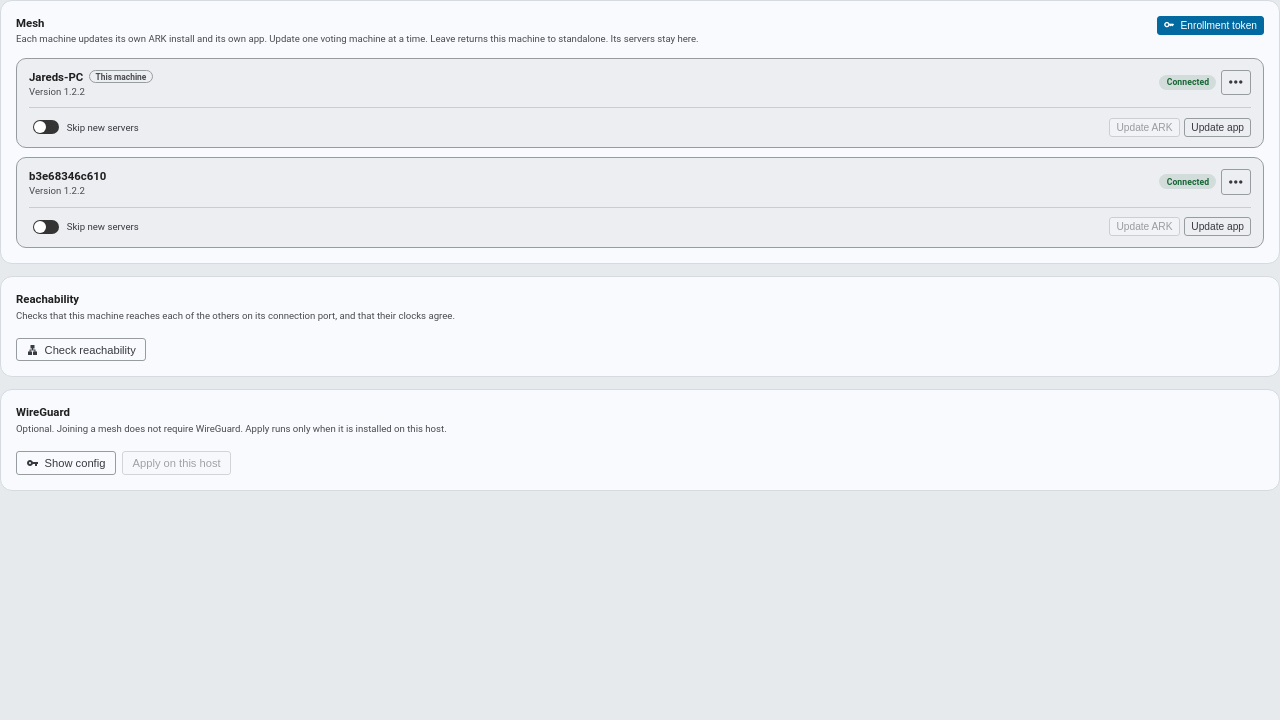
MeshSettingsComponent › naming a machine › renames a machine from its card
The image size is (1280, 720).
Step 1. Click the button with class "mesh-node-more" in the row of "b3e68346c610" → (1236, 182), box [1221,169,1251,195]
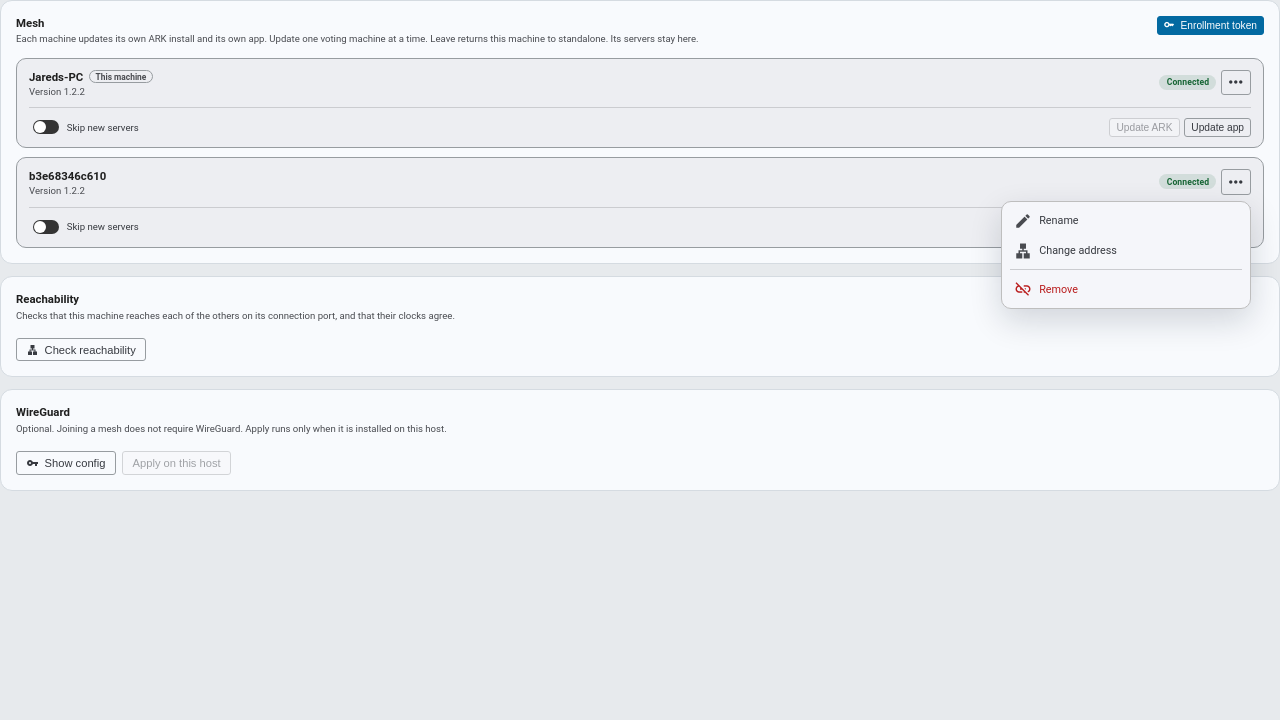
Step 2. Click the menu item "Rename" → (1126, 221), box [1006,206,1246,236]
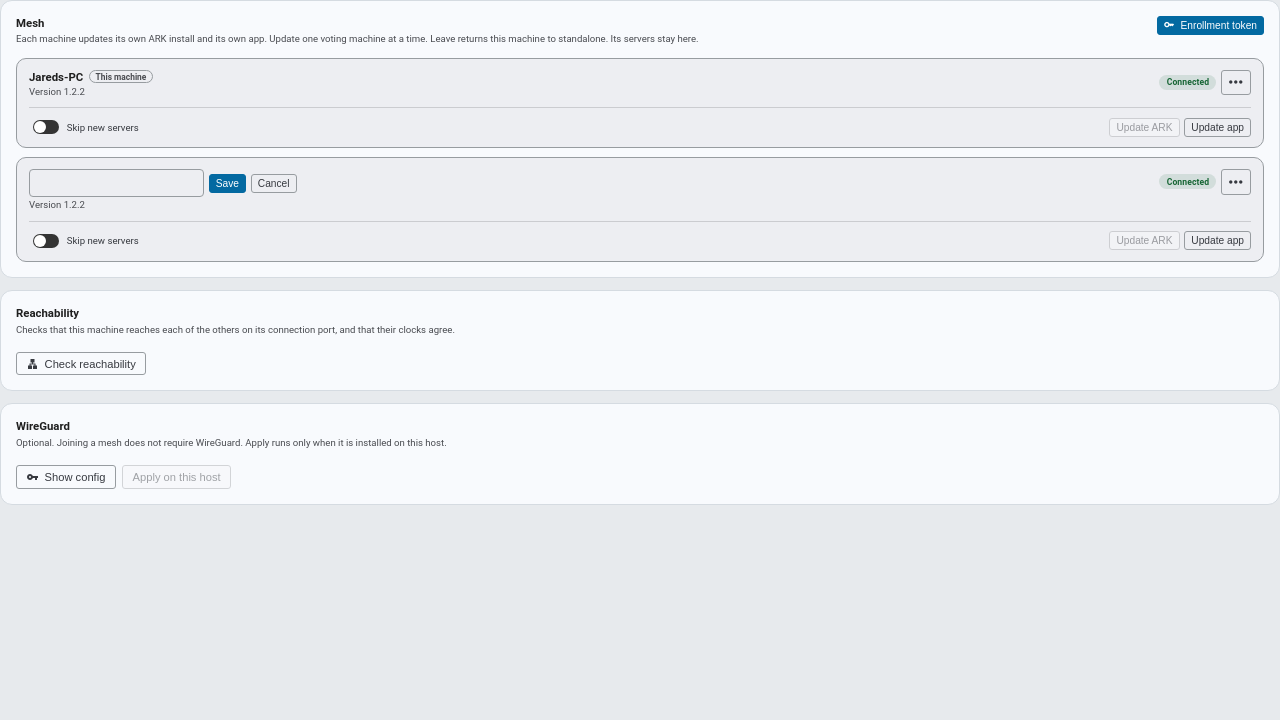
Step 3. Type "Basement Box" into the field with class "mesh-node-rename-input" → (116, 183), box [29,169,204,197]
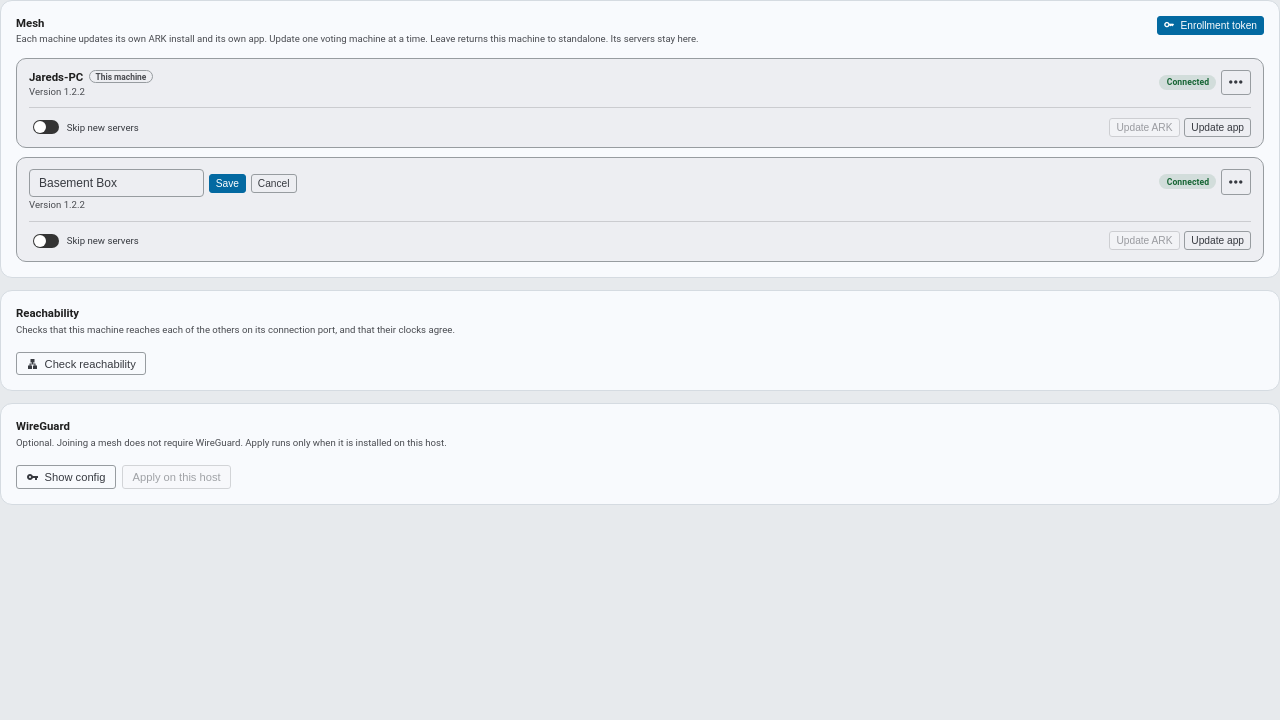
Step 4. Click the button with class "mesh-node-rename-save" → (227, 183), box [209,174,246,193]
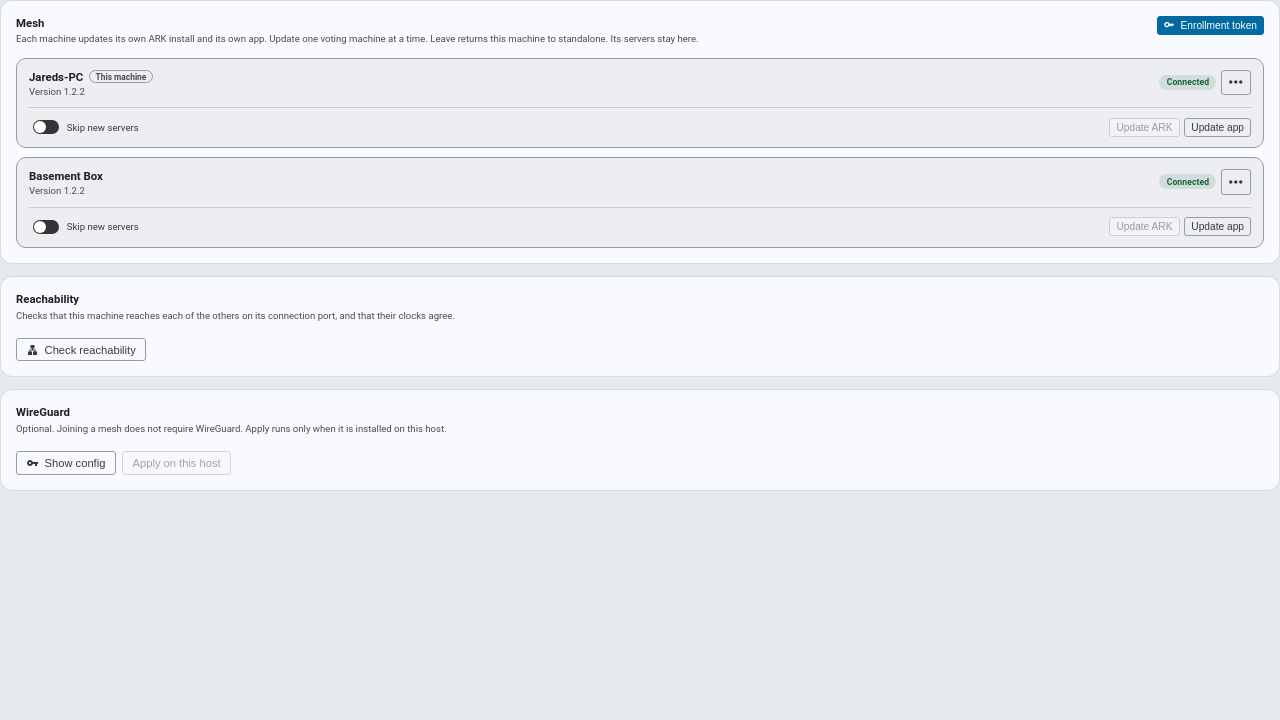
Now the field with class "mesh-node-rename-input" is gone
Now the heading with class "mesh-node-name" reads "Basement Box", box [29,169,103,183]
